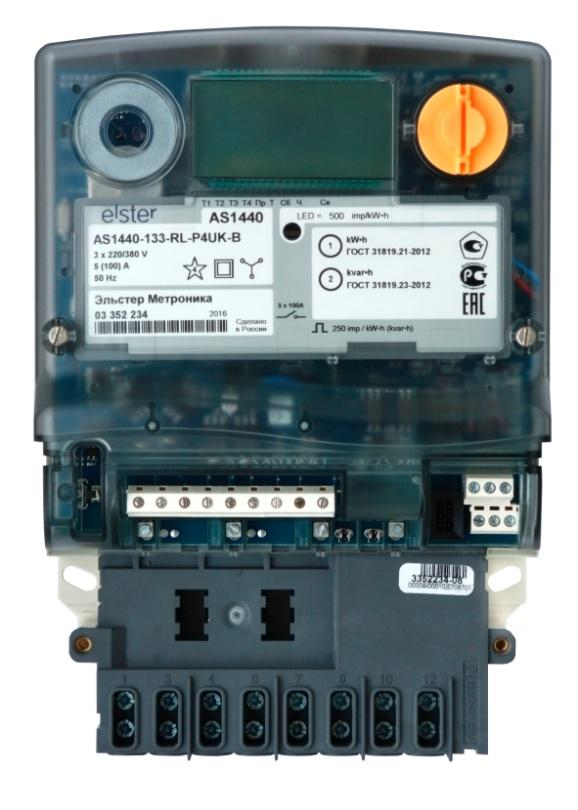counter: (28, 23, 552, 743)
counter_screen: (182, 67, 404, 203)
